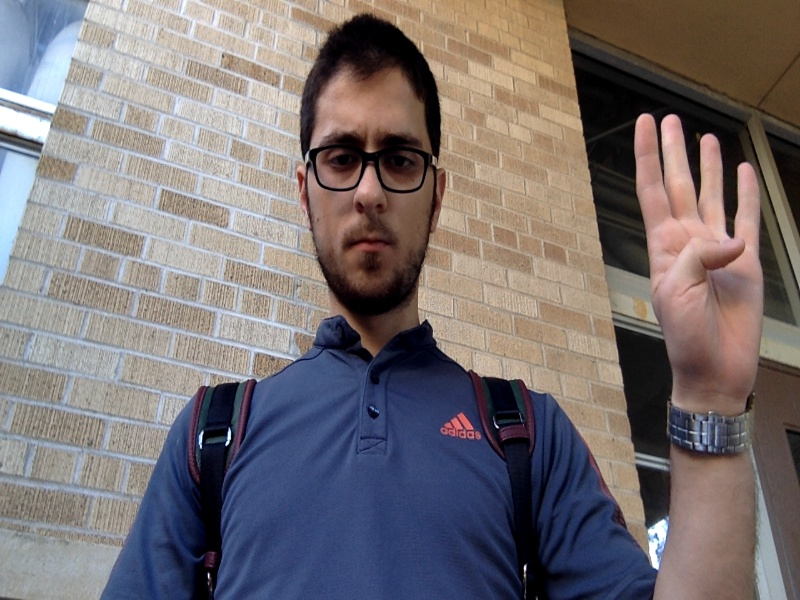4-hand: (632, 111, 762, 400)
